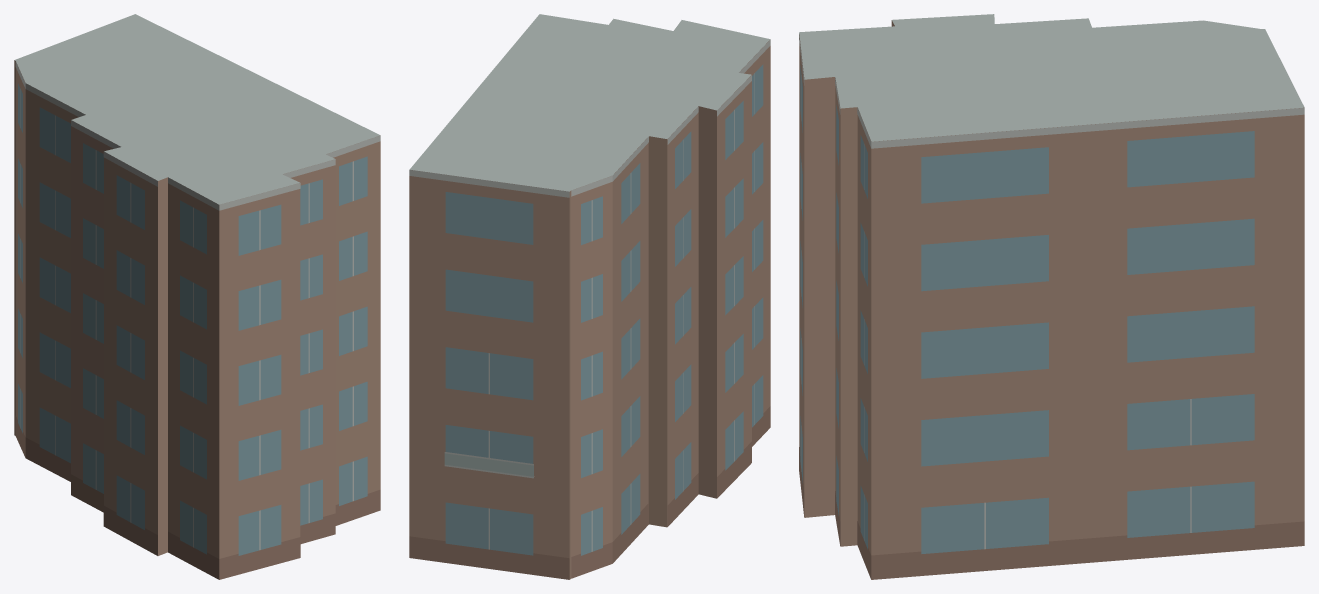
Rendered from survey-upis-32995315.glb.
The picture shows the model from 3 angles, left to right: view 1: azimuth 30°, elevation 25°; view 2: azimuth 150°, elevation 25°; view 3: azimuth 270°, elevation 25°; orthographic projection. The views are drawn at different scales.
Visible parts, largest first — view 1: survey-upis-32995315.tmp; view 2: survey-upis-32995315.tmp; view 3: survey-upis-32995315.tmp.
Boxes of the visible parts, bbox=[...] form: survey-upis-32995315.tmp: bbox=[14, 14, 380, 579]; survey-upis-32995315.tmp: bbox=[409, 14, 770, 579]; survey-upis-32995315.tmp: bbox=[799, 14, 1304, 579].
Bounding box in the file's own units: 9.54 × 15.25 × 15.96.
